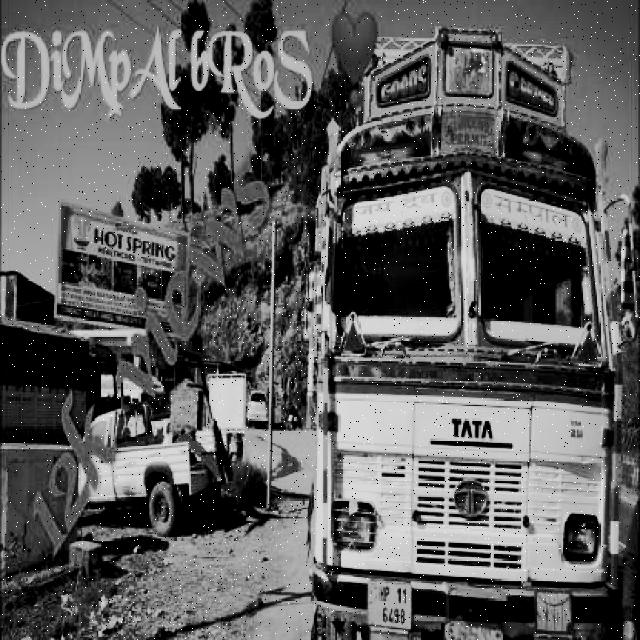HCV: (344, 69, 636, 640)
